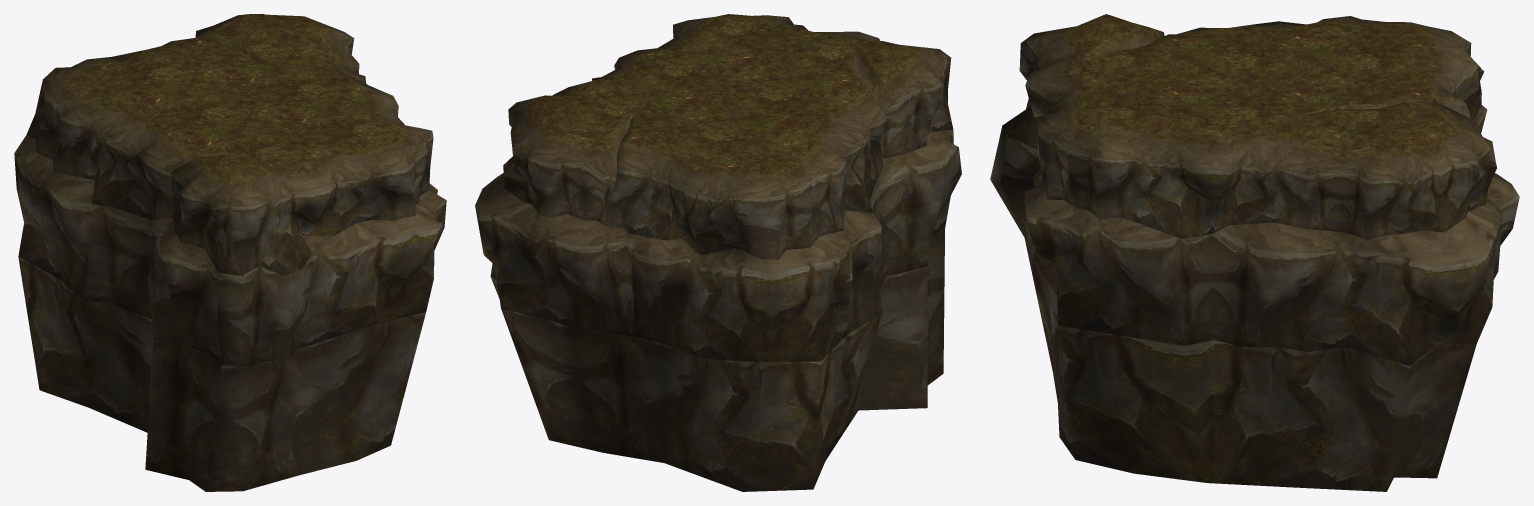
The model's file is C_dizhuan005.fbx.
3 views of the same model, side by side, from view 1: azimuth 30°, elevation 25°; view 2: azimuth 150°, elevation 25°; view 3: azimuth 270°, elevation 25° (orthographic). The views are drawn at different scales.
Visible parts, largest first — view 1: C_dimian005; view 2: C_dimian005; view 3: C_dimian005.
Boxes of the visible parts, left/top/right/bottom form: C_dimian005: left=14, top=14, right=446, bottom=491; C_dimian005: left=475, top=14, right=961, bottom=491; C_dimian005: left=990, top=14, right=1519, bottom=491.
Size of the model in its own units: 2154 by 1927 by 2601.
